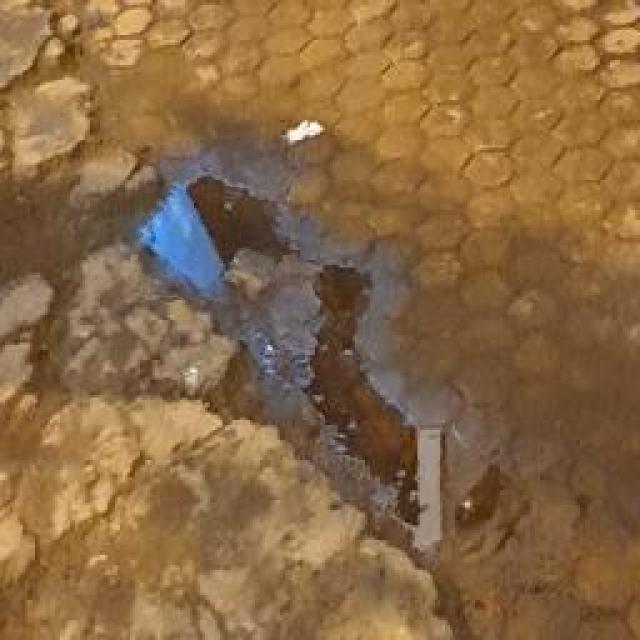puddle: (131, 170, 289, 306)
